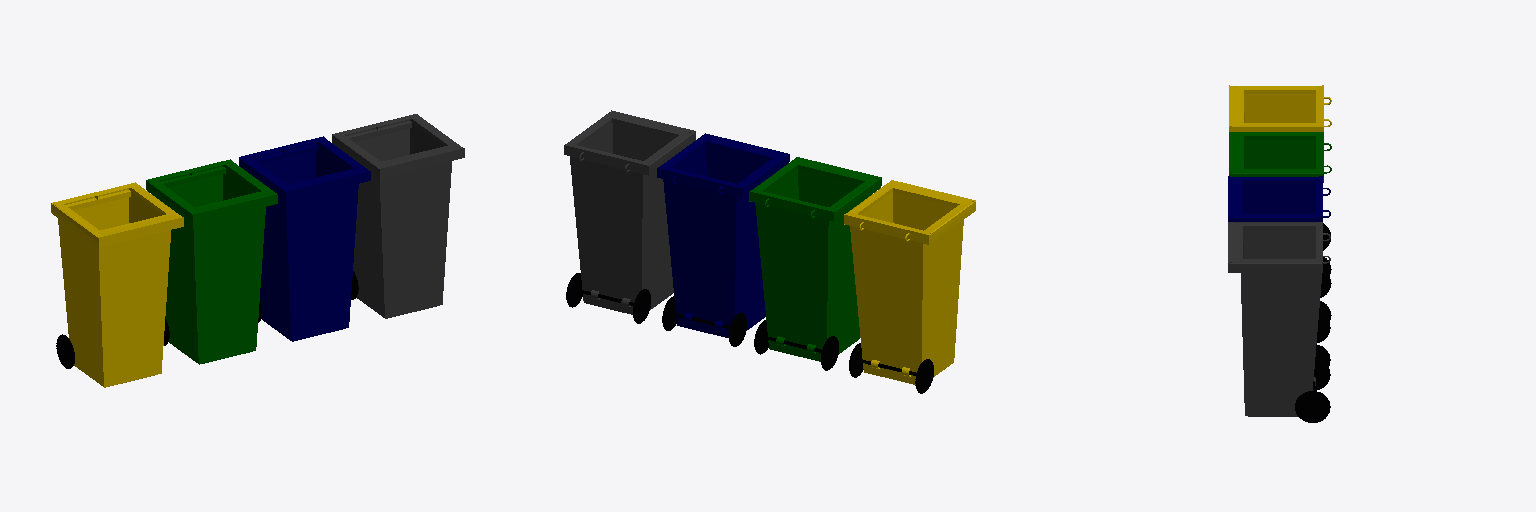
Rendered from bins.obj.
3 views of the same model, side by side, from view 1: azimuth 30°, elevation 25°; view 2: azimuth 150°, elevation 25°; view 3: azimuth 270°, elevation 25° (orthographic).
Parts seen in each view (by area): view 1: Torus.004, Torus.001, Torus.003, Torus.002; view 2: Torus.004, Torus.001, Torus.003, Torus.002, Cylinder.003_Cylinder.002, Cylinder.003_Cylinder.003, Cylinder.003_Cylinder.004, Cylinder.003_Cylinder.001; view 3: Torus.003, Torus.004, Torus.002, Torus.001, Cylinder.003_Cylinder.002.
Part boxes in pixels (x1,y1,x2,y2): Torus.004: (51,182,183,387); Torus.001: (146,159,277,364); Torus.003: (332,114,464,318); Torus.002: (239,136,370,341); Torus.004: (844,180,975,384); Torus.001: (749,157,881,361); Torus.003: (564,110,695,314); Torus.002: (657,133,789,337); Cylinder.003_Cylinder.002: (566,273,650,323); Cylinder.003_Cylinder.003: (849,343,933,393); Cylinder.003_Cylinder.004: (754,320,838,370); Cylinder.003_Cylinder.001: (662,296,746,346); Torus.003: (1228,222,1330,416); Torus.004: (1229,85,1331,131); Torus.002: (1228,176,1330,221); Torus.001: (1229,132,1331,182); Cylinder.003_Cylinder.002: (1295,359,1330,422).
Bounding box in the file's own units: 12.63 × 5.42 × 3.1.